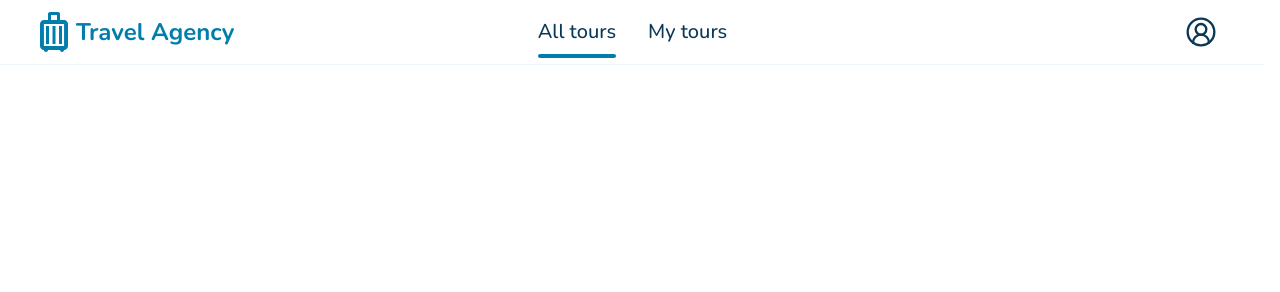
Header Component › toggles ProfileDropdown when user icon is clicked
Expected: the text "Johnson Doe" is not shown
Note: Click to open
Click the button named "User profile menu": (1201, 32) [1177,12,1225,52]
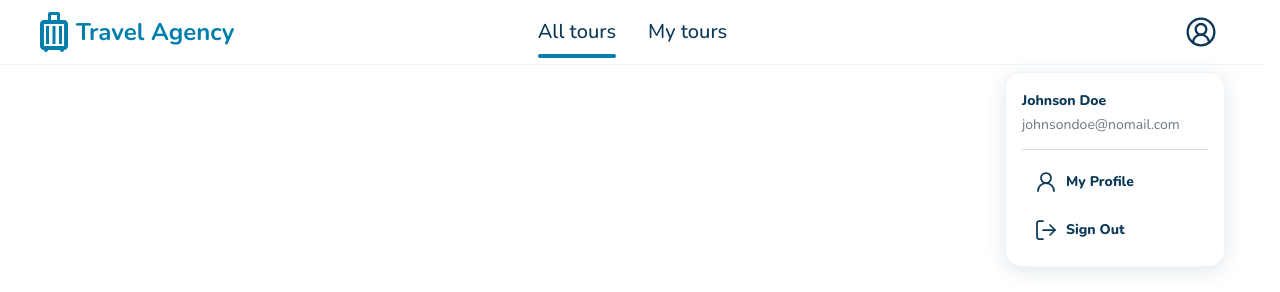
Expected: the heading "Johnson Doe" is shown, [1022,89,1106,113]
Expected: the text "johnsondoe@nomail.com" is shown, [1022,113,1180,137]
Note: Click to close
Click the button named "User profile menu": (1201, 32) [1177,12,1225,52]
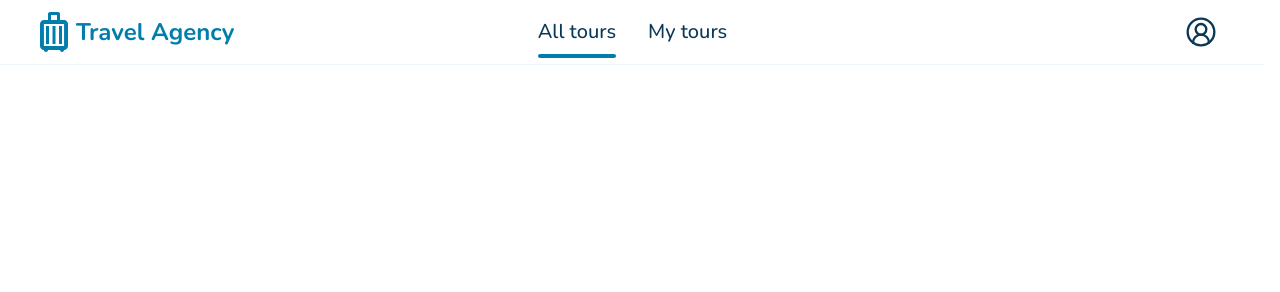
Expected: the heading "Johnson Doe" is gone
